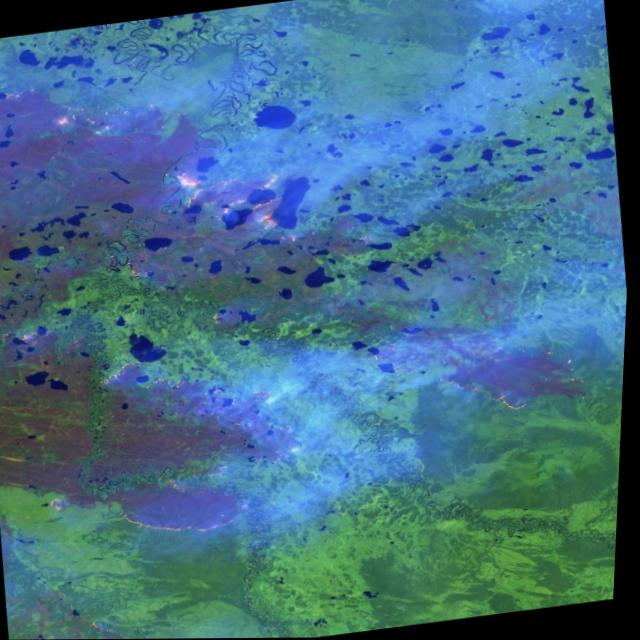fire: (0, 37, 330, 289), (26, 328, 333, 556), (339, 274, 620, 447)
